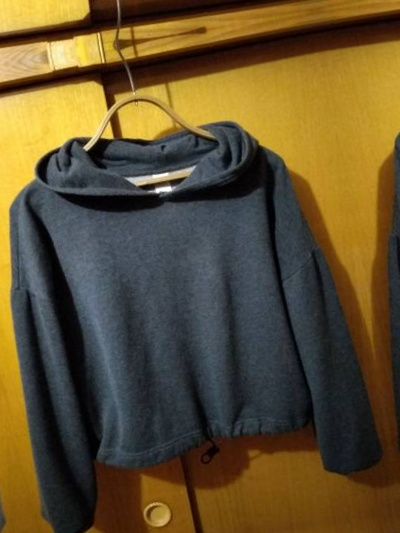Hoodie: (0, 67, 377, 533), (344, 0, 400, 475), (0, 127, 27, 533), (0, 0, 287, 21)
